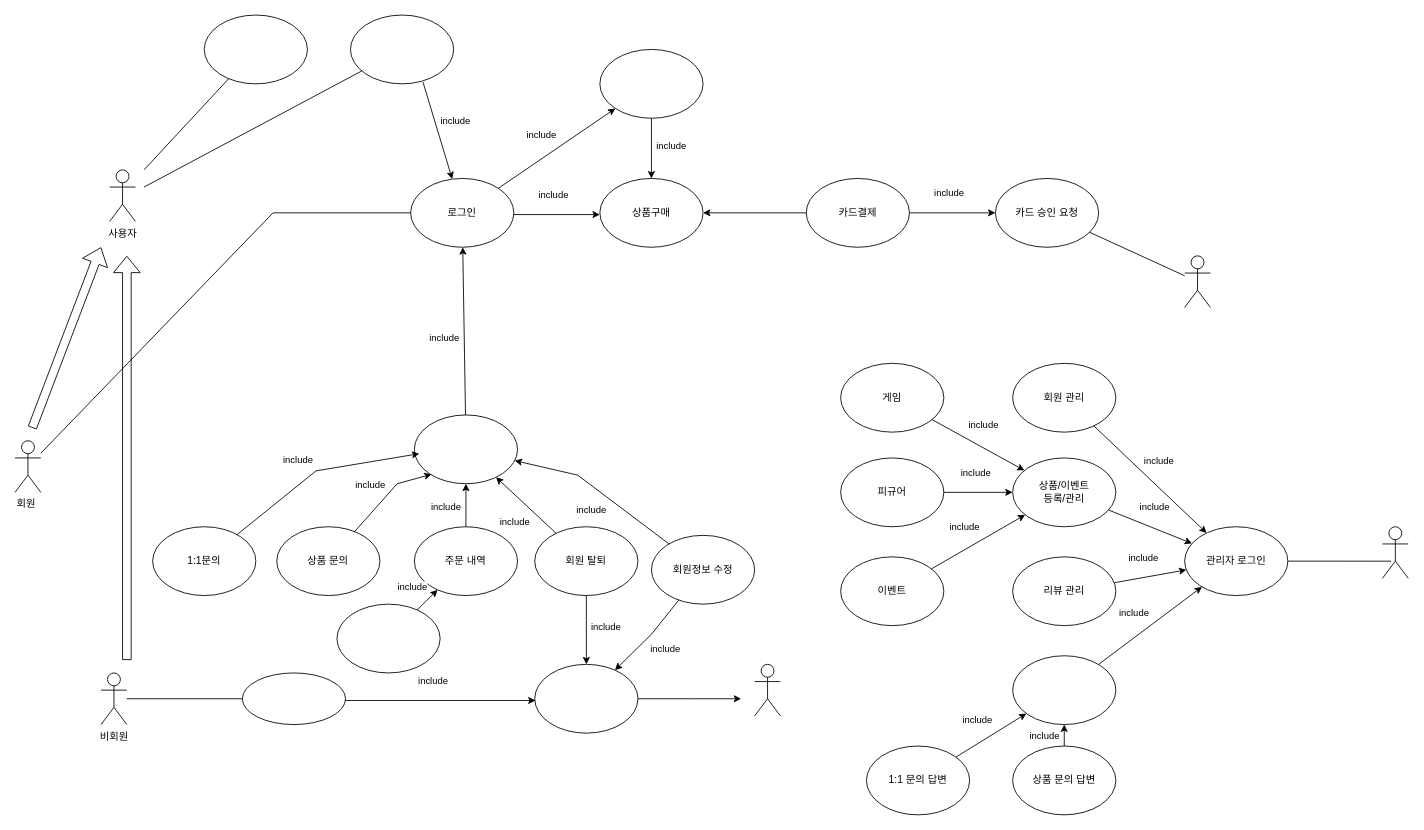
This 1424x830 diagram has some shape labels left out. Each missing label, with the centre of its shape:
관리자: (1395,552)
마이페이지: (465,449)
문의 답변: (1064,690)
본인인증: (586,698)
상품 검색: (255,49)
상품 리뷰 등록: (388,638)
상품 조회: (402,49)
암호화 모듈: (767,689)
장바구니: (651,83)
카드사: (1197,281)
회원 가입: (293,698)
